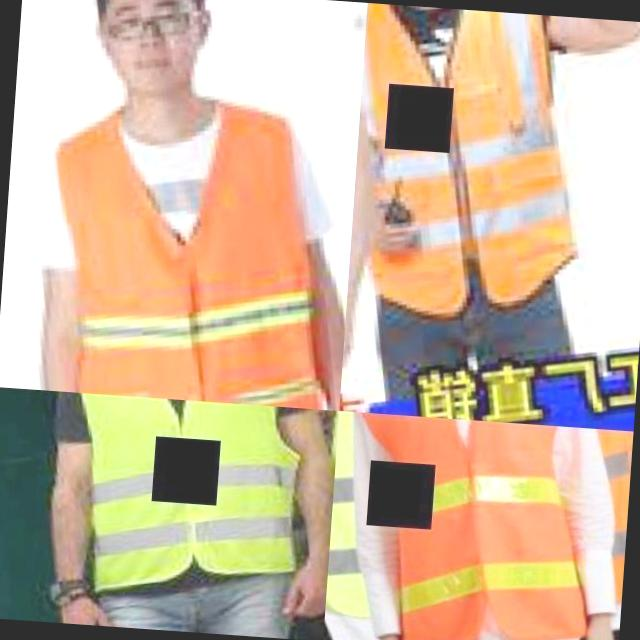vest: (28, 80, 346, 410), (347, 2, 580, 316), (323, 410, 613, 640), (46, 391, 305, 616), (532, 425, 633, 625)
